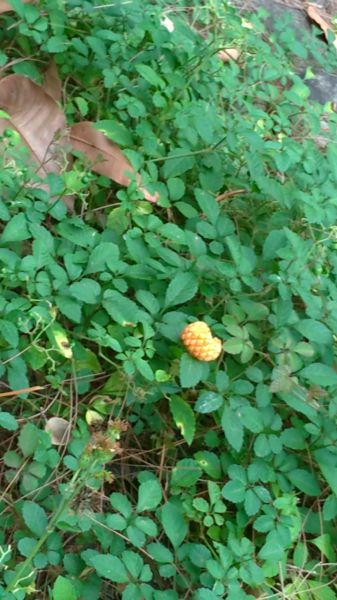eggs: (178, 317, 227, 367)
